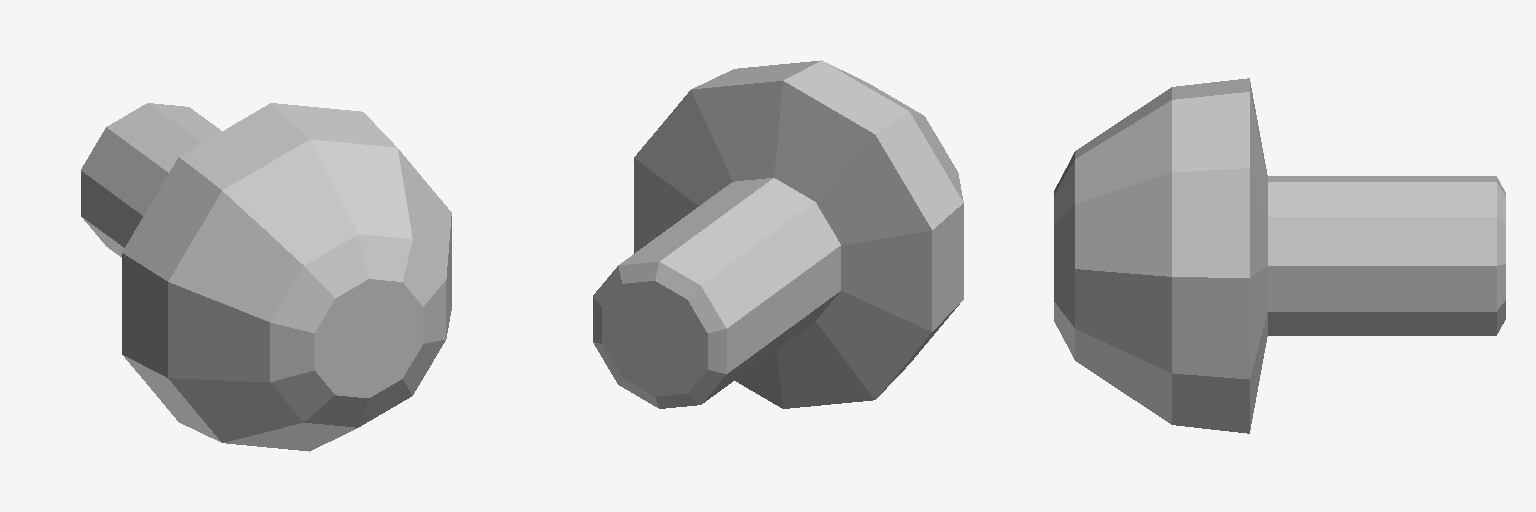
File: mushroom.obj
The picture shows the model from 3 angles: view 1: azimuth 30°, elevation 25°; view 2: azimuth 150°, elevation 25°; view 3: azimuth 270°, elevation 25°; orthographic projection.
Parts seen in each view (by area): view 1: mushroom_Cylinder; view 2: mushroom_Cylinder; view 3: mushroom_Cylinder.
Part boxes in pixels (bbox=[...]): mushroom_Cylinder: bbox=[81, 103, 451, 451]; mushroom_Cylinder: bbox=[593, 60, 963, 408]; mushroom_Cylinder: bbox=[1054, 78, 1505, 433].
Size of the model in its own units: 4.84 by 5.08 by 6.34.